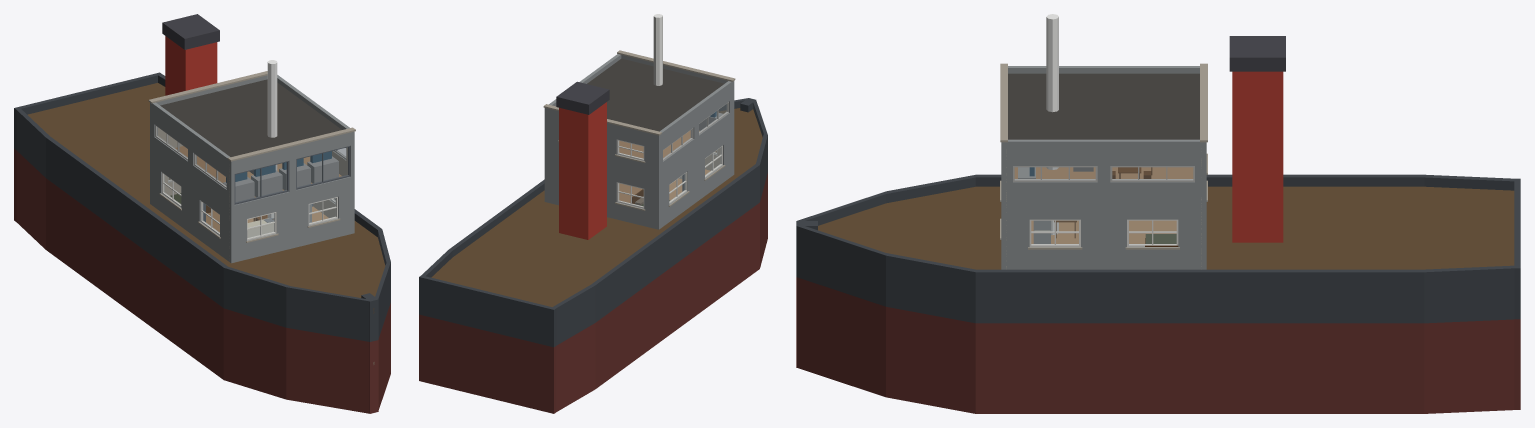
Rendered from tug.glb.
3 renders of one model, left to right at view 1: azimuth 30°, elevation 25°; view 2: azimuth 150°, elevation 25°; view 3: azimuth 270°, elevation 25°, orthographic. The views are drawn at different scales.
Visible parts, largest first — view 1: LOD0, FURN; view 2: LOD0, FURN; view 3: LOD0, FURN.
Boxes of the visible parts, box(x1,y1,x2,y2) form: LOD0: box(14, 14, 390, 413); FURN: box(170, 151, 338, 237); LOD0: box(419, 14, 767, 413); FURN: box(632, 111, 722, 206); LOD0: box(796, 14, 1520, 413); FURN: box(1018, 167, 1178, 246).
Size of what is drawn, in the model's own units: 9 by 15 by 28.25.
